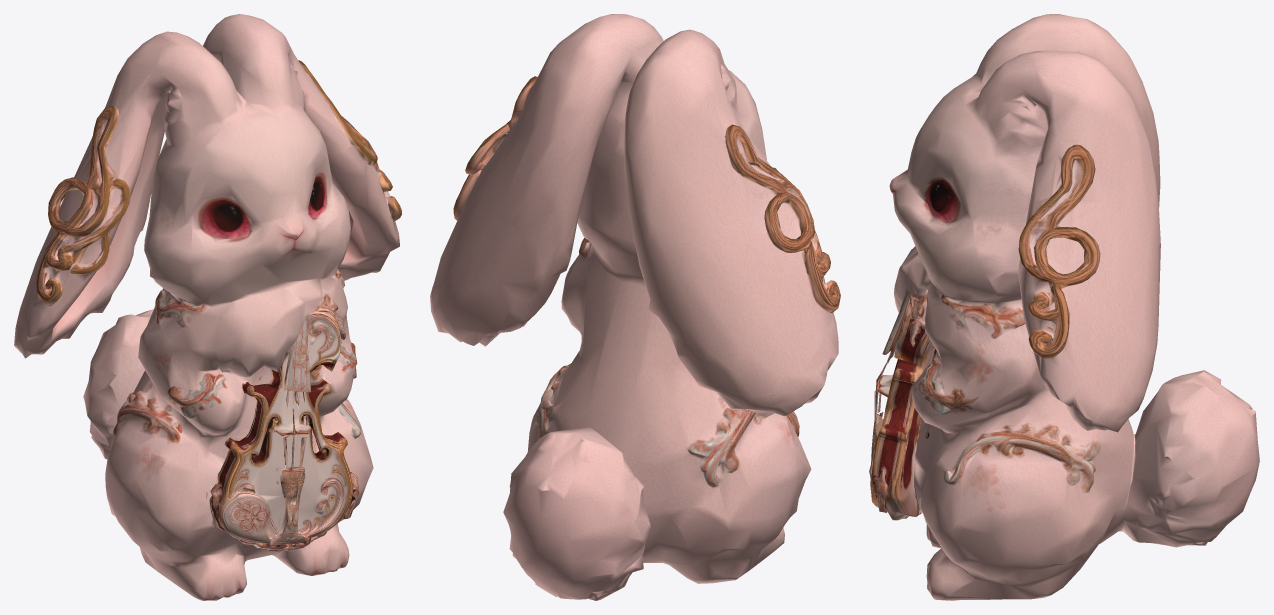
3 views of the same model, side by side, from view 1: azimuth 30°, elevation 25°; view 2: azimuth 150°, elevation 25°; view 3: azimuth 270°, elevation 25° (orthographic). The views are drawn at different scales.
Parts seen in each view (by area): view 1: Mesh_0; view 2: Mesh_0; view 3: Mesh_0.
Boxes of the visible parts, left/top/right/bottom form: Mesh_0: left=14, top=14, right=401, bottom=600; Mesh_0: left=430, top=14, right=840, bottom=600; Mesh_0: left=869, top=14, right=1259, bottom=600.
Bounding box in the file's own units: 1.44 × 1.89 × 1.27.
Materials: 1 (1 with a texture image).
